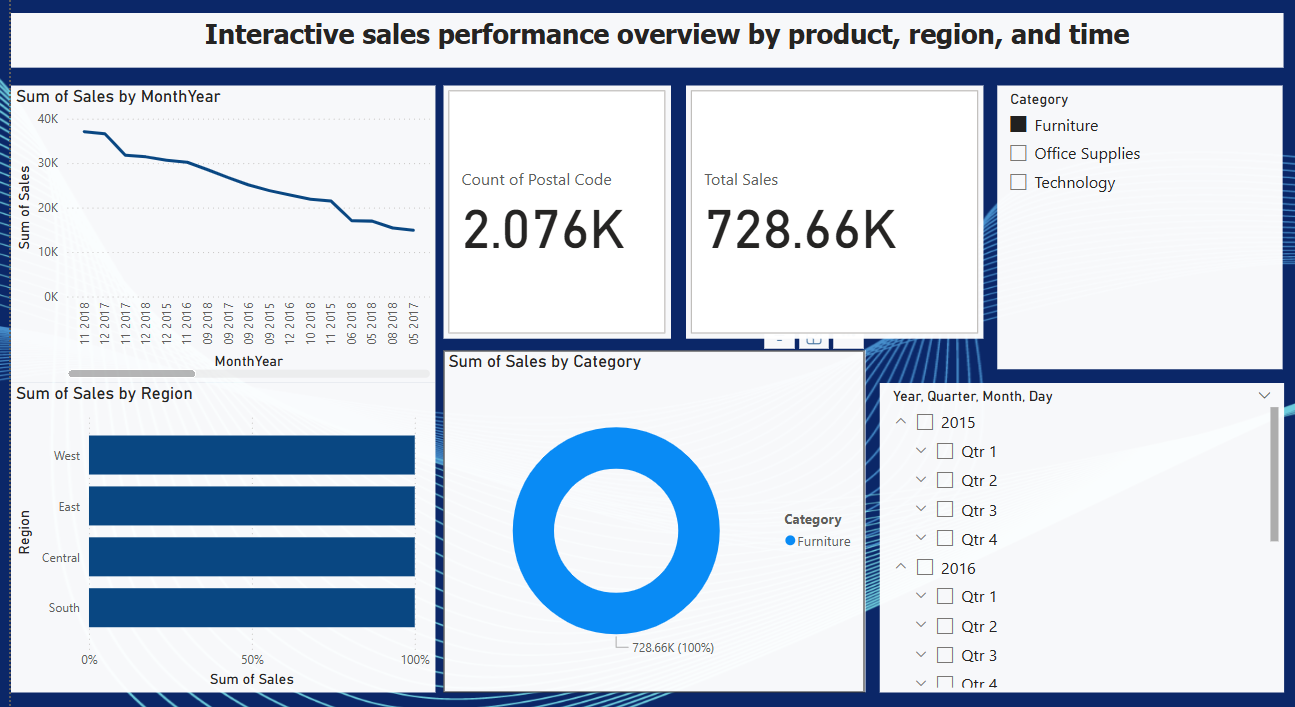

The page's visual inventory and layout, read from the dashboard file:
{"tool":"powerbi","page":{"name":"Page 1","canvas":[1280,720],"ordinal":0},"visuals":[{"type":"lineChart","fields":{"Category":["train.MonthYear"],"Y":["Sum(train.Sales)"]},"box":[0,92,422,296],"z":0},{"type":"hundredPercentStackedBarChart","fields":{"Category":["train.Region"],"Y":["Sum(train.Sales)"]},"box":[0,388,422,308],"z":1000},{"type":"donutChart","fields":{"Category":["train.Category"],"Y":["Sum(train.Sales)"]},"box":[430,356,420,340],"z":2000},{"type":"slicer","fields":{"Values":["train.Category"]},"box":[982,92,284,282],"z":3000},{"type":"cardVisual","fields":{"Data":["Sum(train.Sales)"]},"box":[672,92,296,252],"z":4000},{"type":"textbox","box":[0,20,1266,54],"z":5000},{"type":"slicer","fields":{"Values":["train.Order Date.Variation.Date Hierarchy.Year","train.Order Date.Variation.Date Hierarchy.Quarter","train.Order Date.Variation.Date Hierarchy.Month","train.Order Date.Variation.Date Hierarchy.Day"]},"box":[864,388,402,308],"z":6000},{"type":"cardVisual","fields":{"Data":["CountNonNull(train.Postal Code)"]},"box":[430,92,226,252],"z":6001}]}

Visuals, with their boxes in screenshot pixels (x1, y1, x2, y2):
lineChart - train.MonthYear x Sum(train.Sales): [7,82,431,380]
hundredPercentStackedBarChart - train.Region x Sum(train.Sales): [7,380,431,690]
donutChart - train.Category x Sum(train.Sales): [439,348,862,690]
slicer - train.Category: [994,82,1280,366]
cardVisual - Sum(train.Sales): [683,82,980,336]
textbox: [7,10,1280,64]
slicer - train.Order Date.Variation.Date Hierarchy.Year x train.Order Date.Variation.Date Hierarchy.Quarter: [876,380,1280,690]
cardVisual - CountNonNull(train.Postal Code): [439,82,666,336]
